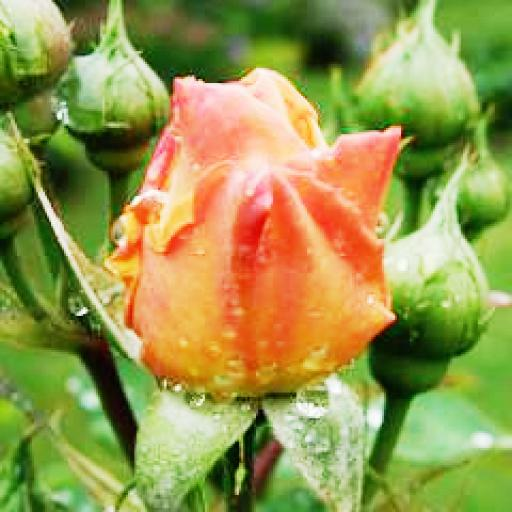rose: (113, 64, 397, 378)
